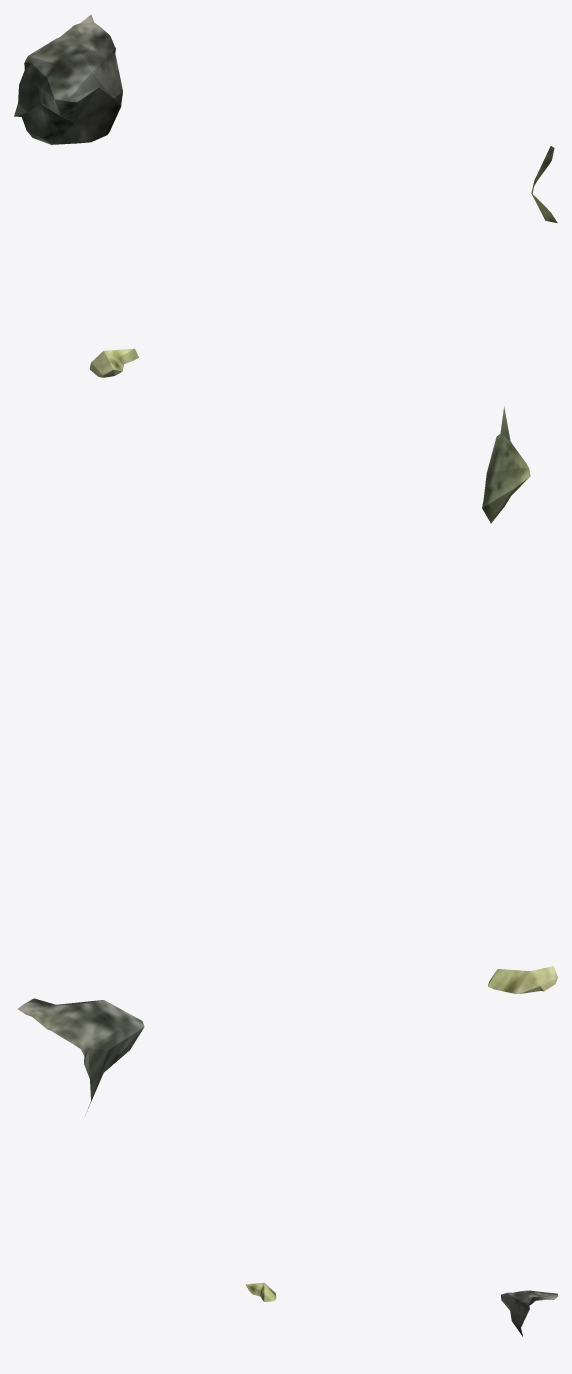
3 renders of one model, top to bottom at view 1: azimuth 30°, elevation 25°; view 2: azimuth 150°, elevation 25°; view 3: azimuth 270°, elevation 25°, orthographic. The views are drawn at different scales.
Size of the model in its own units: 3.71 by 4.71 by 11.8.
Materials: 1 (1 with a texture image).
